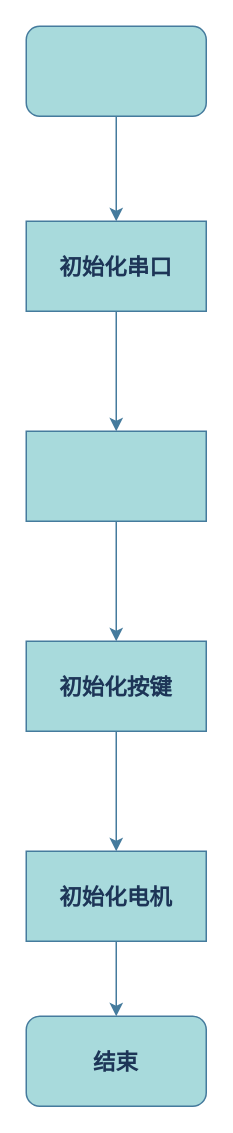
This 233x1133 diagram has some shape labels left out. Here are the shapes that lost their labels. From the top down, the centre of each, then its label:
At (x=115, y=70): "开始".
At (x=115, y=475): "初始化LCD".
